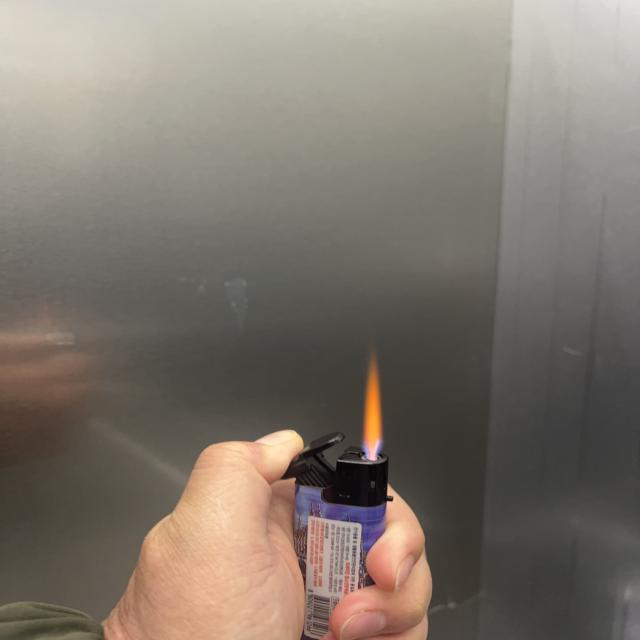fire: (361, 353, 384, 458)
